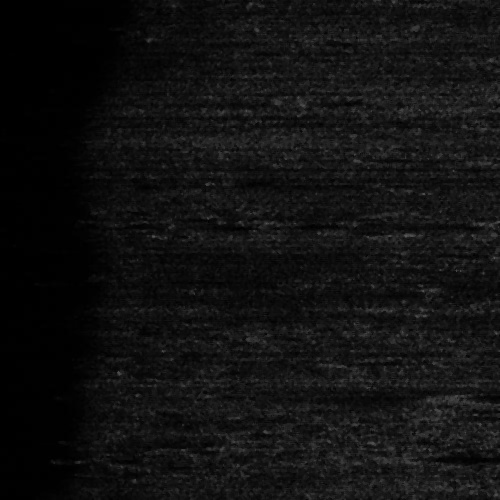object: (362, 451, 467, 460), (422, 391, 495, 402)
shadow: (415, 451, 500, 460), (458, 391, 500, 402)
